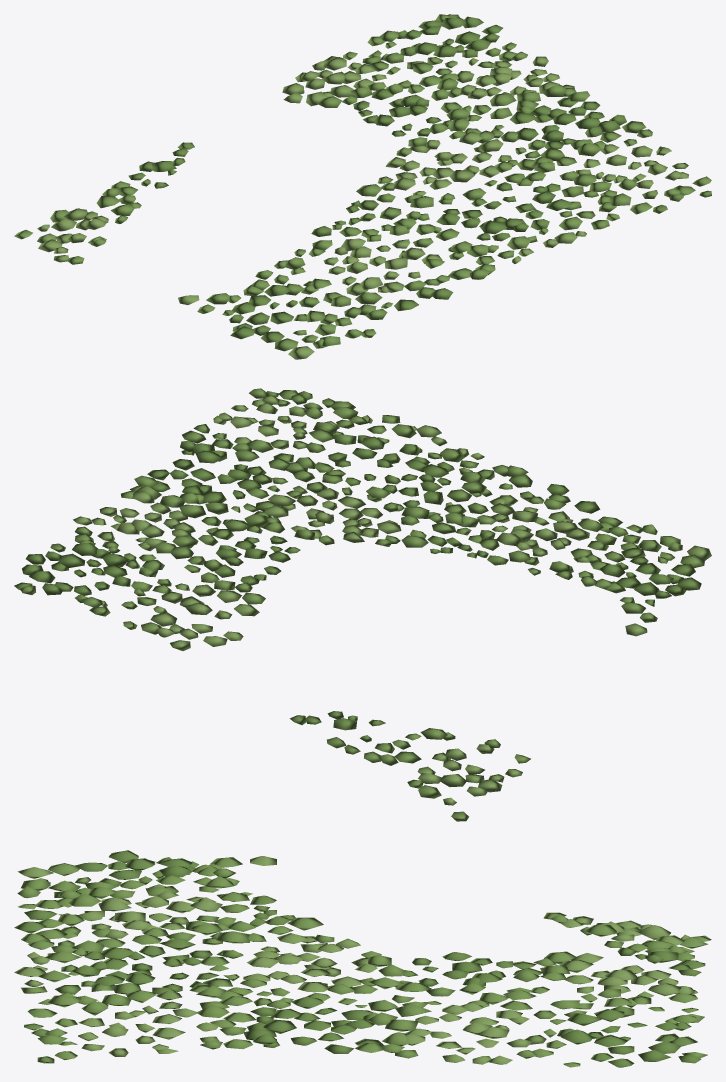
The model's file is canopy-1-1-3.glb.
3 renders of one model, top to bottom at view 1: azimuth 30°, elevation 25°; view 2: azimuth 150°, elevation 25°; view 3: azimuth 270°, elevation 25°, orthographic. The views are drawn at different scales.
Size of the model in its own units: 518 by 150 by 518.
Materials: 1 (1 with a texture image).
